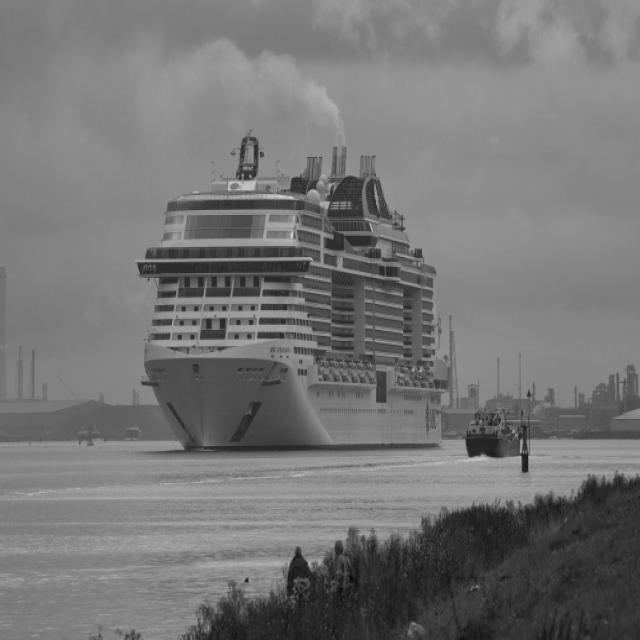cruises: (130, 128, 457, 463)
